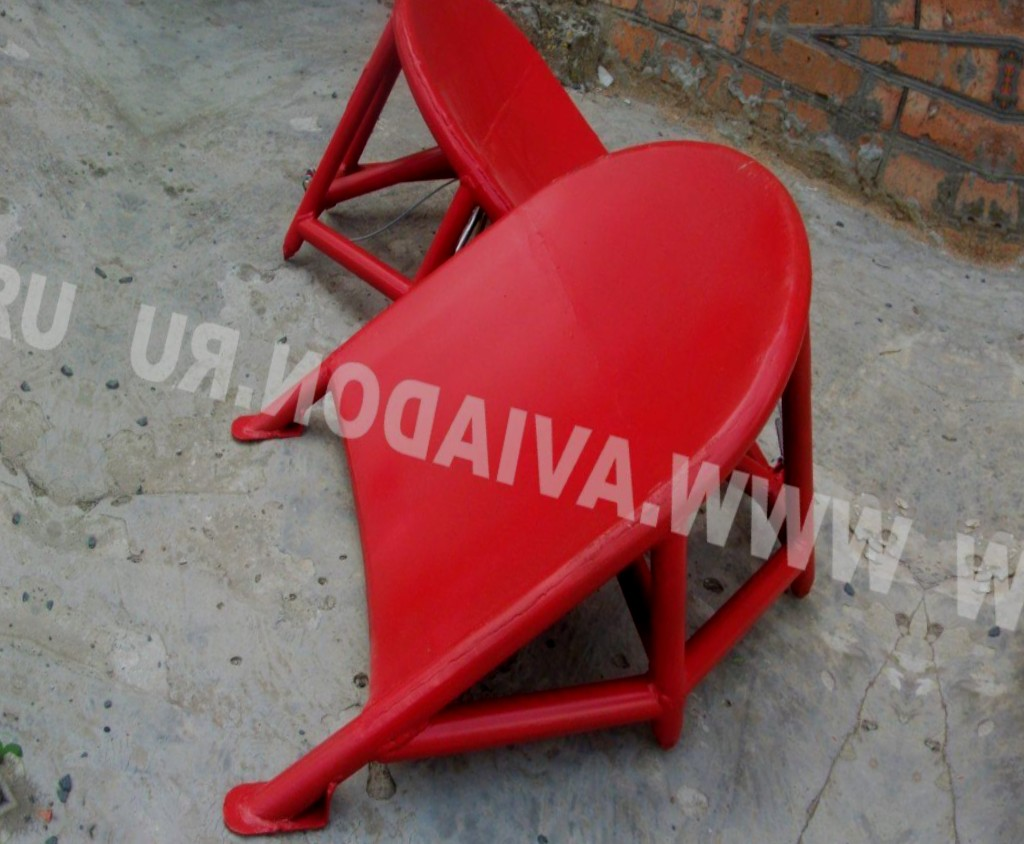chock: (142, 31, 915, 844), (272, 0, 638, 335)
